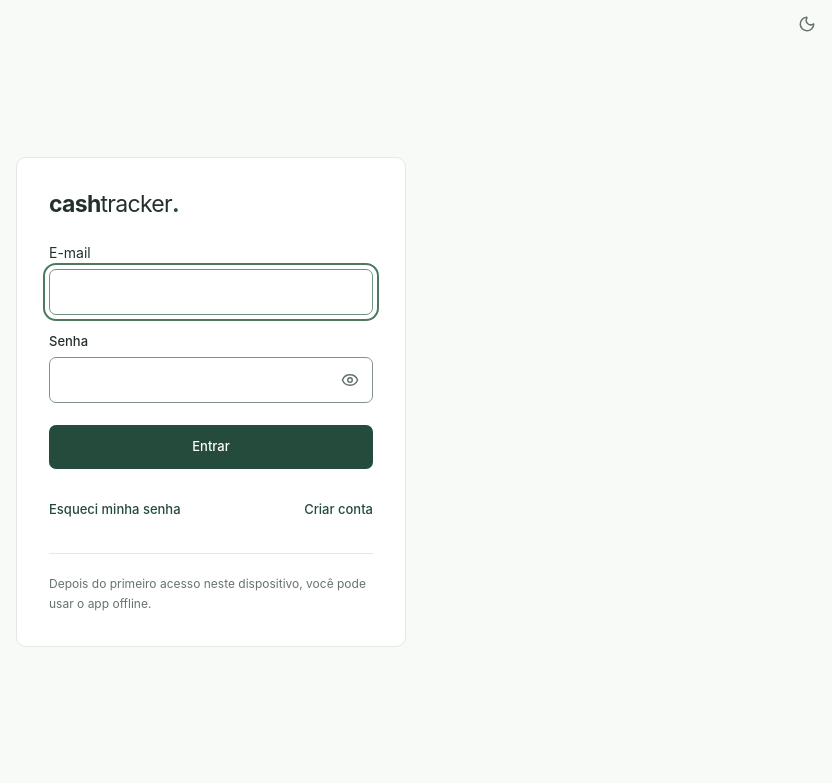
acesso simples por e-mail e senha › impede cadastrar senhas divergentes e leva o foco à confirmação
Click the button "Criar conta".
click(339, 510)  # box [304, 492, 373, 528]
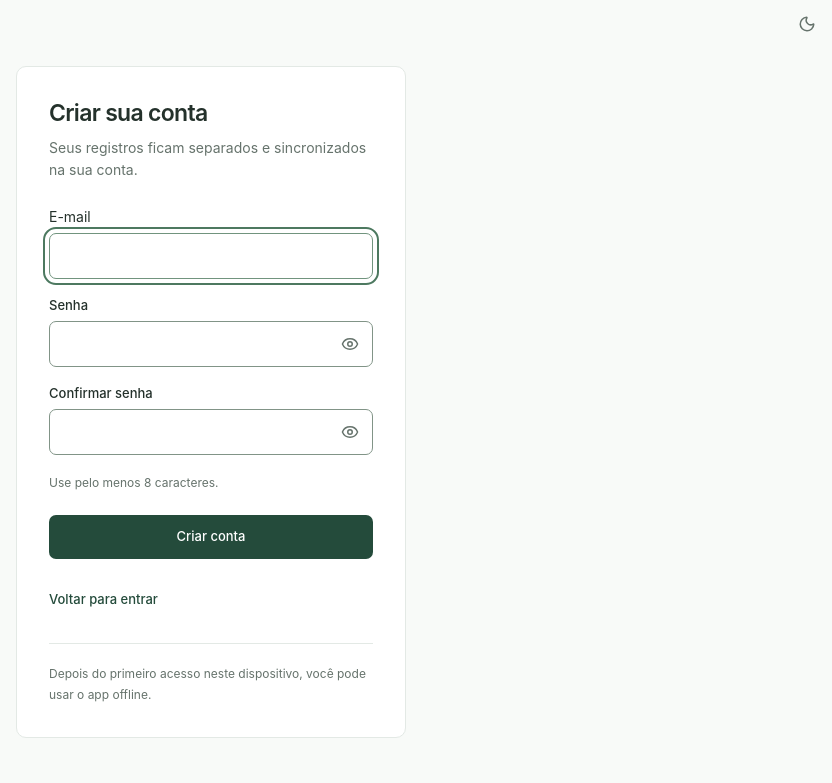
Type "new@example.com" into the field labelled "E-mail".
click(211, 256); type("new@example.com")  # box [49, 233, 373, 279]
Type "correct-password" into the password field labelled "Senha".
click(211, 344); type("correct-password")  # box [49, 321, 373, 367]
Type "different-password" into the password field labelled "Confirmar senha".
click(211, 432); type("different-password")  # box [49, 409, 373, 455]
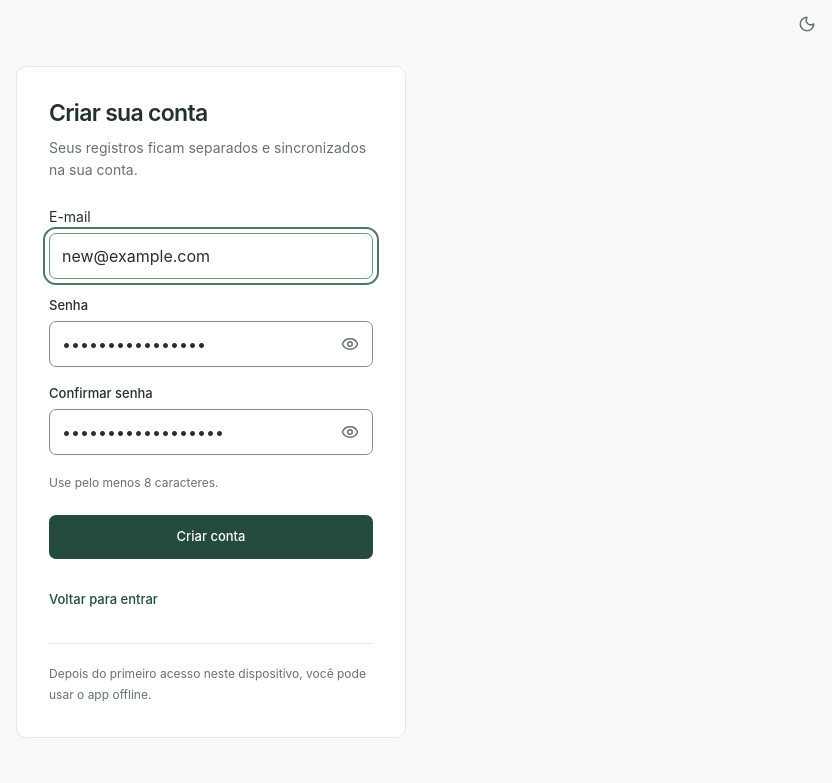
Click the button "Criar conta".
click(211, 537)  # box [49, 515, 373, 559]
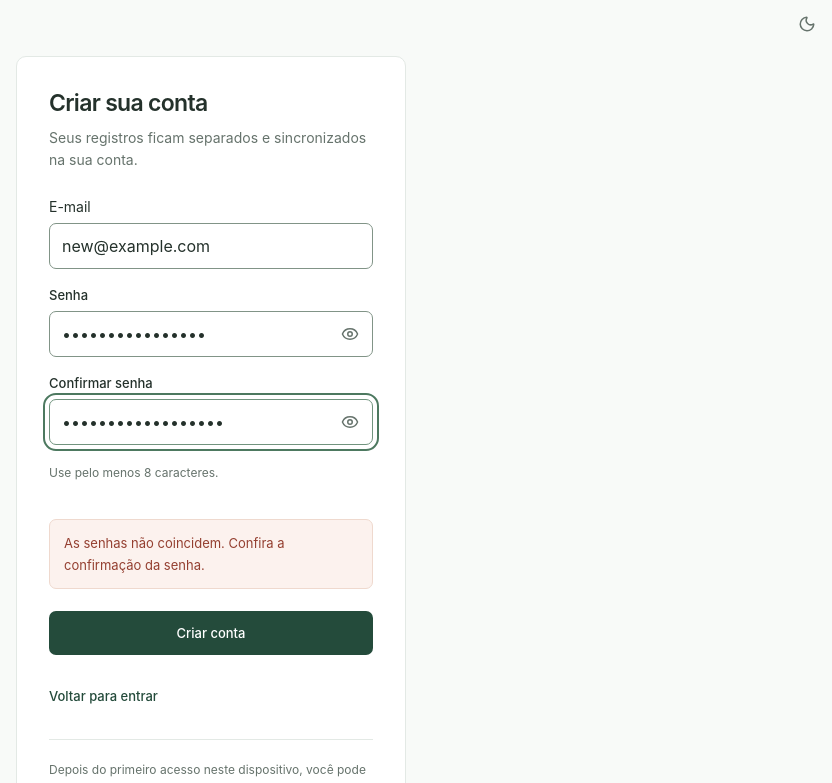
Result: the message shows "não coincidem" at [64, 535, 285, 573]
Click the button named "Mostrar confirmação da senha".
click(350, 422)  # box [330, 402, 370, 442]
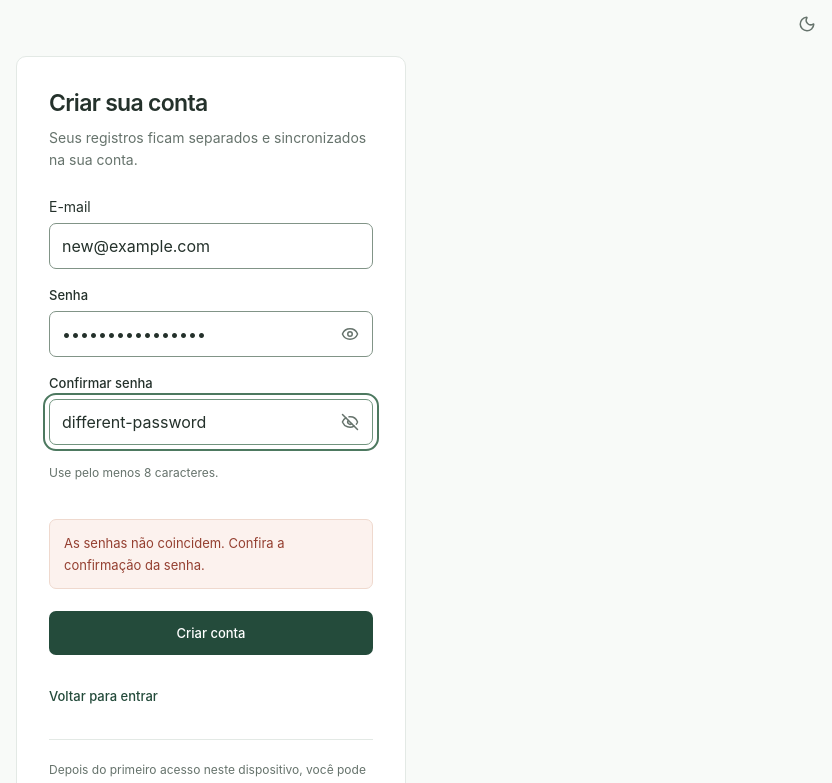
Replace the text in the field labelled "Confirmar senha" with "correct-password" at (211, 422), box [49, 399, 373, 445]
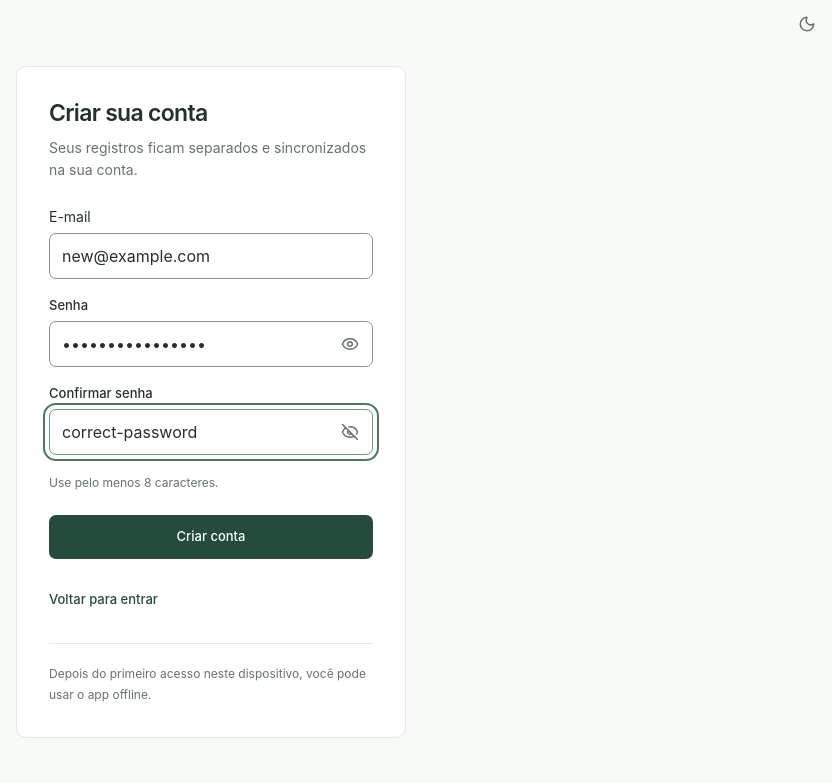
Result: the message "As senhas não coincidem. Confira a confirmação da senha." is gone
Click the button "Criar conta".
click(211, 537)  # box [49, 515, 373, 559]
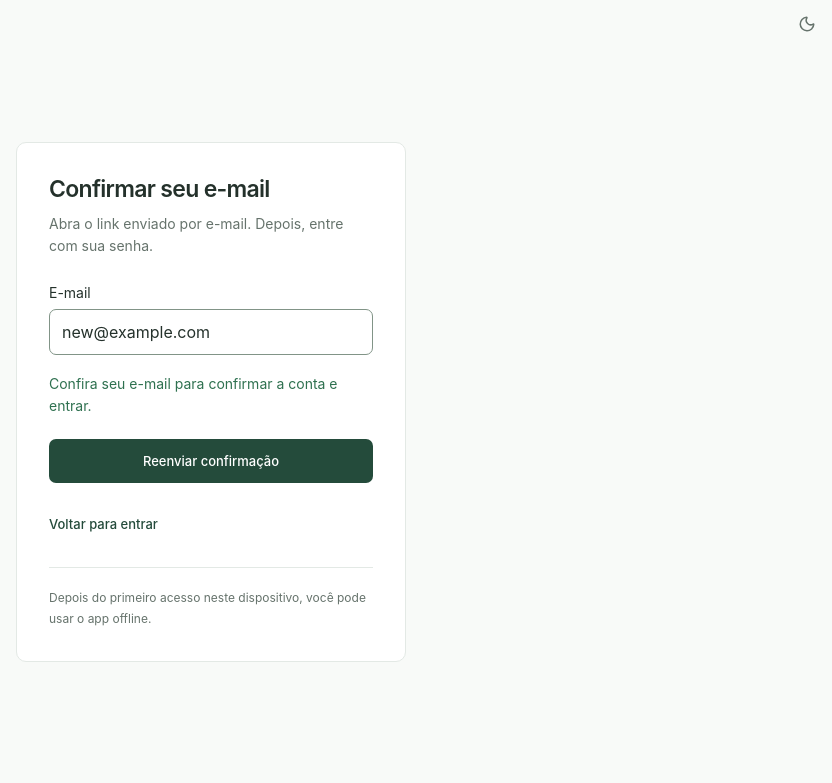
Result: the heading "Confirmar seu e-mail" is shown at [49, 175, 270, 203]
